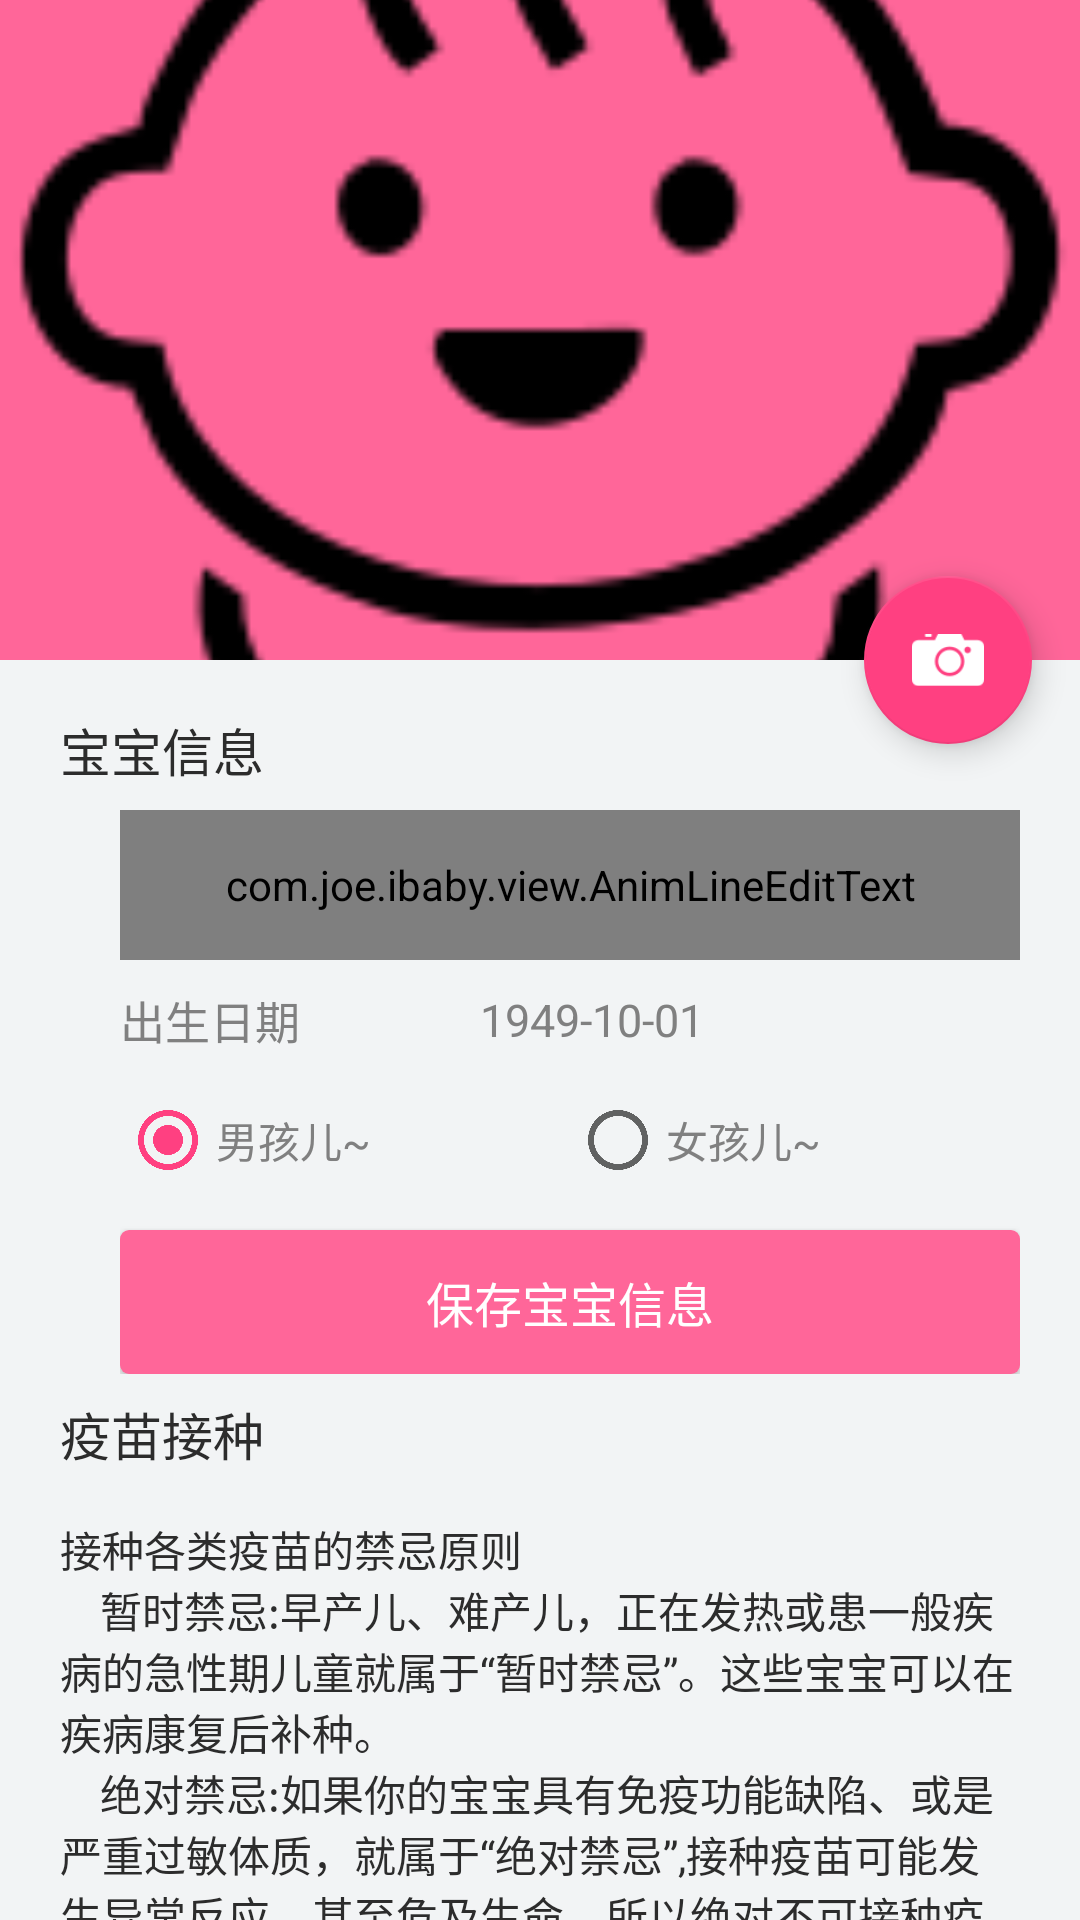

Screen size 1080*1920. Icon name, then its center in pixels as (x,y):
add pic: (948,660)
